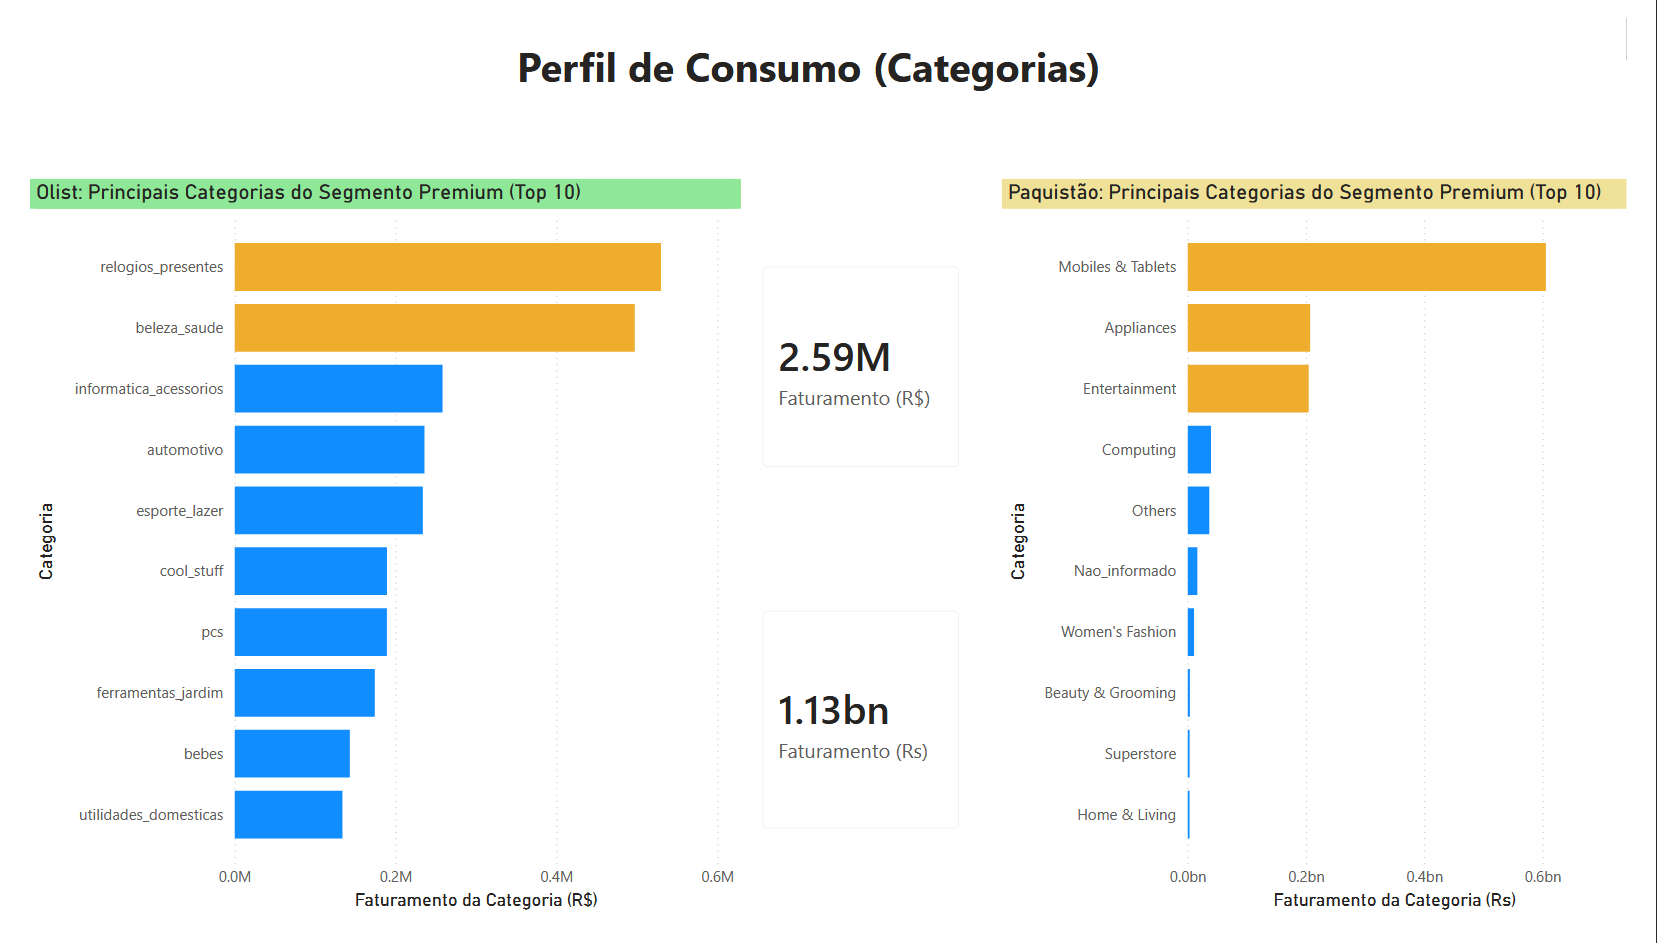

What the dashboard file says about the page in this screenshot:
{"tool":"powerbi","page":{"name":"Perfil_Consumo","canvas":[1280,720],"ordinal":1},"visuals":[{"type":"textbox","box":[331.2,11.2,586.5,73.3],"z":0},{"type":"cardVisual","fields":{"Data":["Sum(pb_categorias_premium_pak.faturamento_total)"]},"box":[570.1,458,191.5,208.7],"z":1000},{"type":"barChart","title":"Olist: Principais Categorias do Segmento Premium (Top 10)","fields":{"Category":["pb_categorias_premium_olist.categoria"],"Y":["Sum(pb_categorias_premium_olist.faturamento_total)"]},"box":[0,129.4,570.1,590.8],"z":2000},{"type":"barChart","title":"Paquistão: Principais Categorias do Segmento Premium (Top 10)","fields":{"Category":["pb_categorias_premium_pak.categoria"],"Y":["Sum(pb_categorias_premium_pak.faturamento_total)"]},"box":[779,129.1,501.1,590.9],"z":3000},{"type":"cardVisual","title":"dsad","fields":{"Data":["Sum(pb_categorias_premium_olist.faturamento_total)"]},"box":[570.1,182,191.5,194.9],"z":4000}]}

Visuals, with their boxes in screenshot pixels (x1, y1, x2, y2), scaled from the page's 1280x720 canvas onto the 1657x943 screenshot:
textbox: 429:15:1188:111
cardVisual - Sum(pb_categorias_premium_pak.faturamento_total): 738:600:986:873
"Olist: Principais Categorias do Segmento Premium (Top 10)" barChart: 0:169:738:942
"Paquistão: Principais Categorias do Segmento Premium (Top 10)" barChart: 1008:169:1656:942
"dsad" cardVisual: 738:238:986:494
